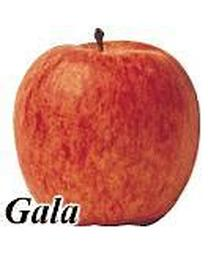apple: (13, 28, 200, 228)
